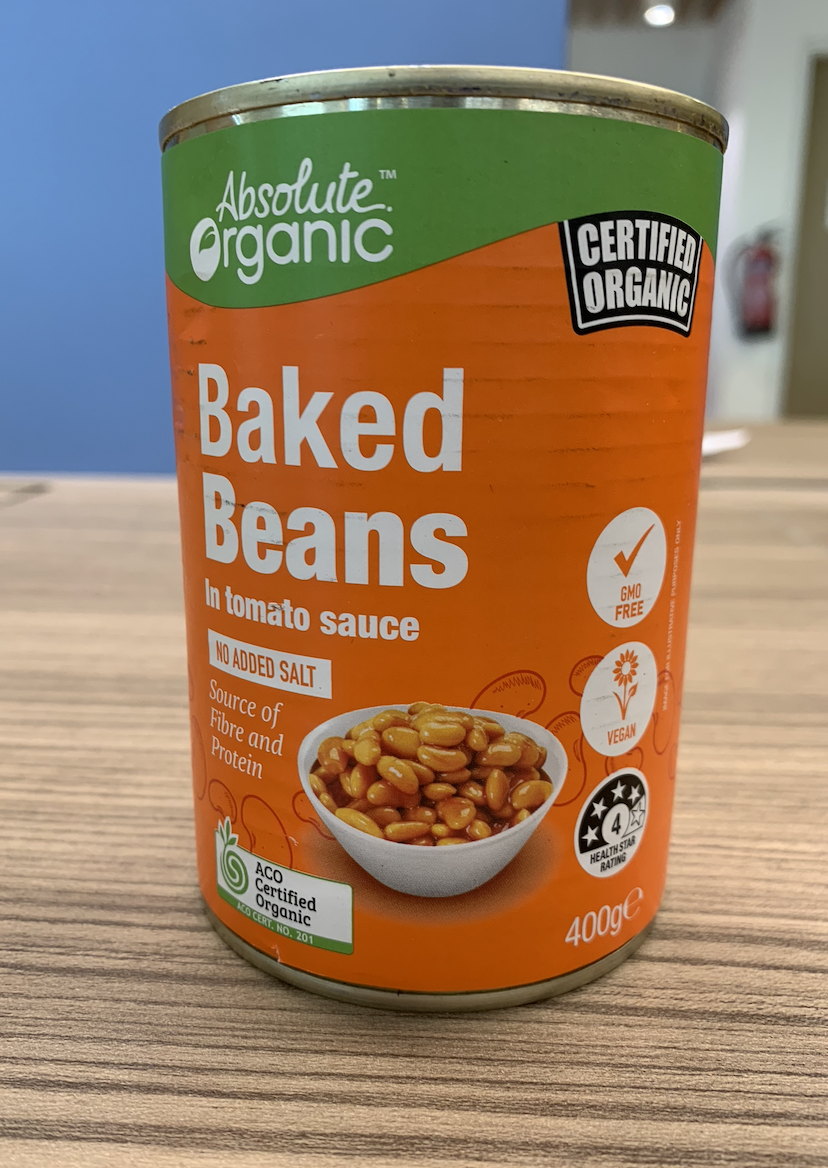Baked beans_450g: (195, 143, 664, 963)
